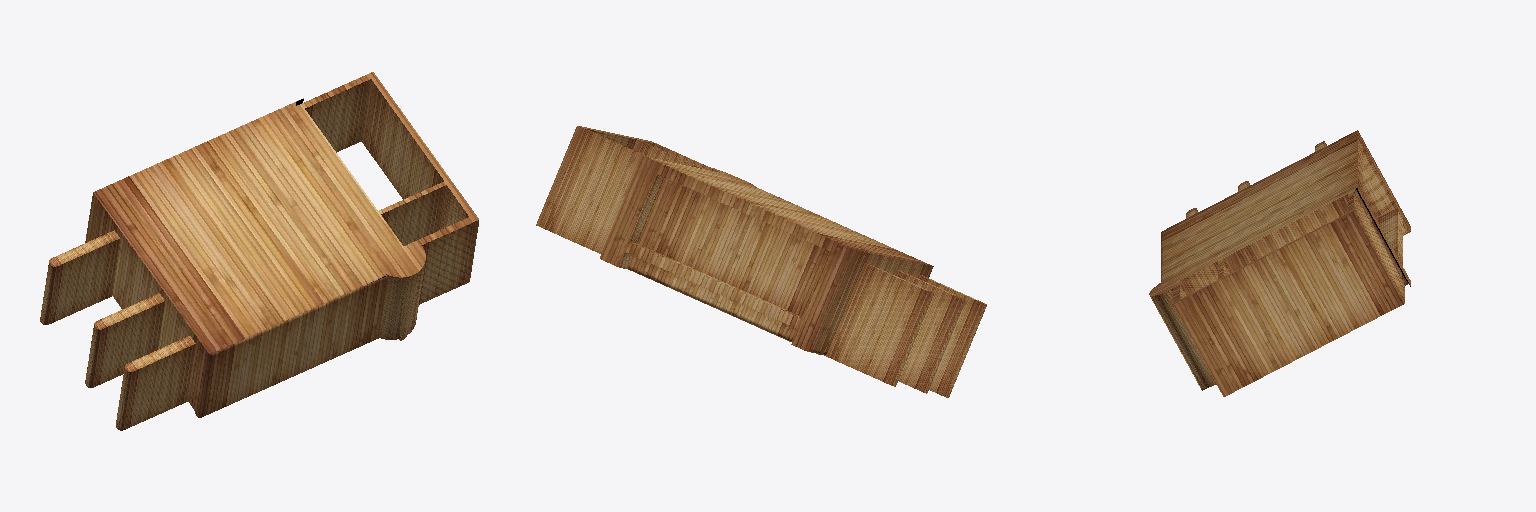
The picture shows the model from 3 angles: view 1: azimuth 30°, elevation 25°; view 2: azimuth 150°, elevation 25°; view 3: azimuth 270°, elevation 25°; orthographic projection.
Visible parts, largest first — view 1: Object.1; view 2: Object.1; view 3: Object.1.
Part boxes in pixels (bbox=[...]): Object.1: bbox=[40, 72, 478, 430]; Object.1: bbox=[536, 126, 986, 397]; Object.1: bbox=[1149, 130, 1410, 396].
Bounding box in the file's own units: 19.04 × 11.74 × 11.62.
2 materials, 1 textured.